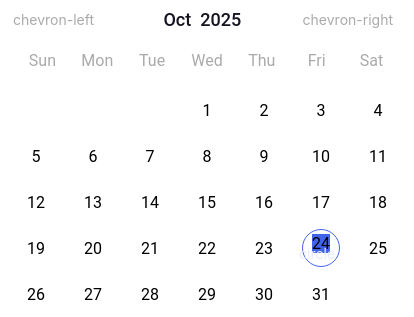
Scenario: WmCalendar Component › should navigate to previous and next month correctly
The image size is (414, 317).
Note: Test previous month button
What coordinates should you click on to do the following:
click the button with test id "test_calendar_prevmonthicon_icon"
I would click on:
 (58, 20)
Its box is [13,11,102,28].
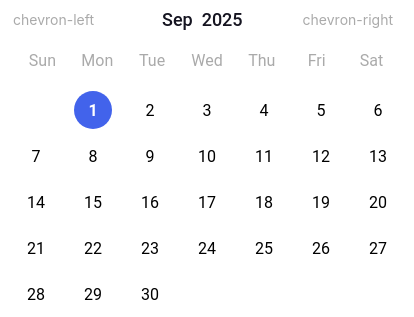
Check: the text "Sep" is shown, box [162,9,202,30]
Note: Test next month button
What coordinates should you click on to do the following:
click the button with test id "test_calendar_nextmonthicon_icon"
I would click on:
 (352, 20)
Its box is [303,11,401,28].
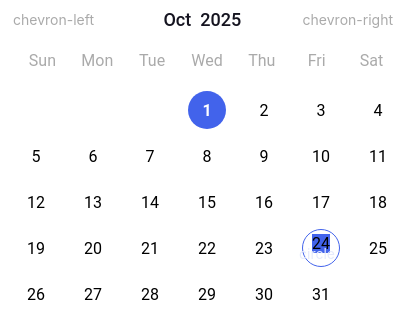
Check: the text "Oct" is shown, box [163,9,200,30]
